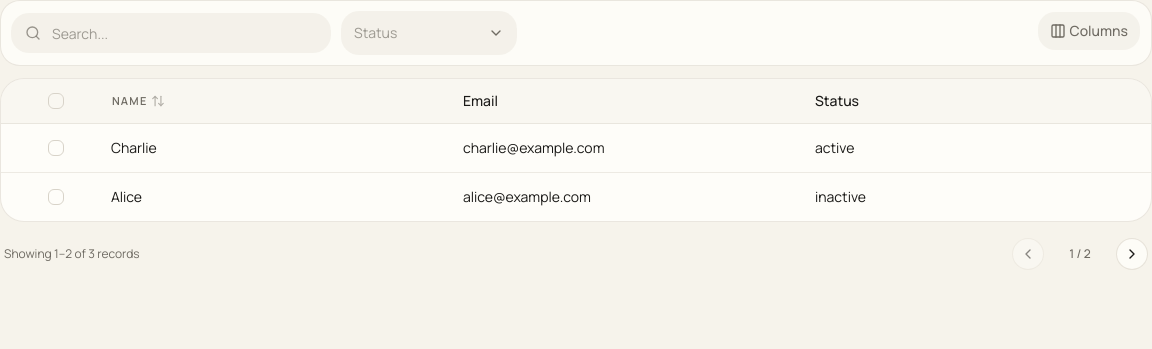
Test case: DataTable › selects rows across client-side pages
Click the checkbox named "Select row" in the row of "charlie@example.com" at (56, 148), box [48,140,64,156]
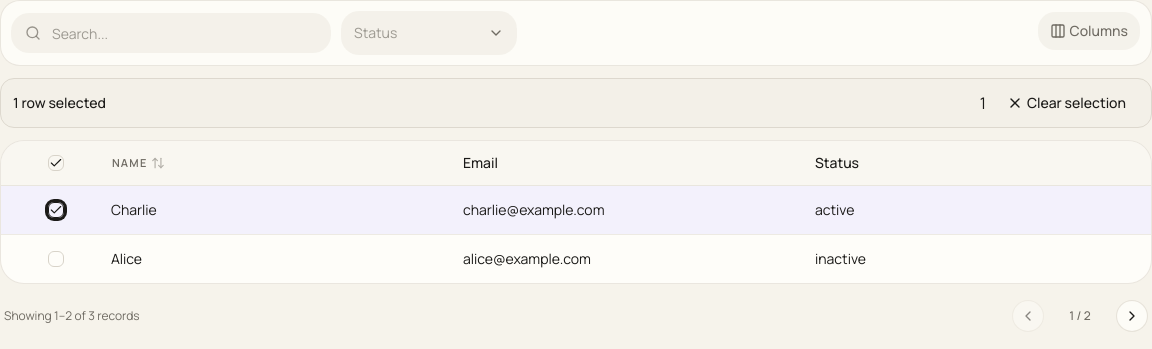
Click the button named "Next page" at (1132, 316), box [1116,300,1148,332]
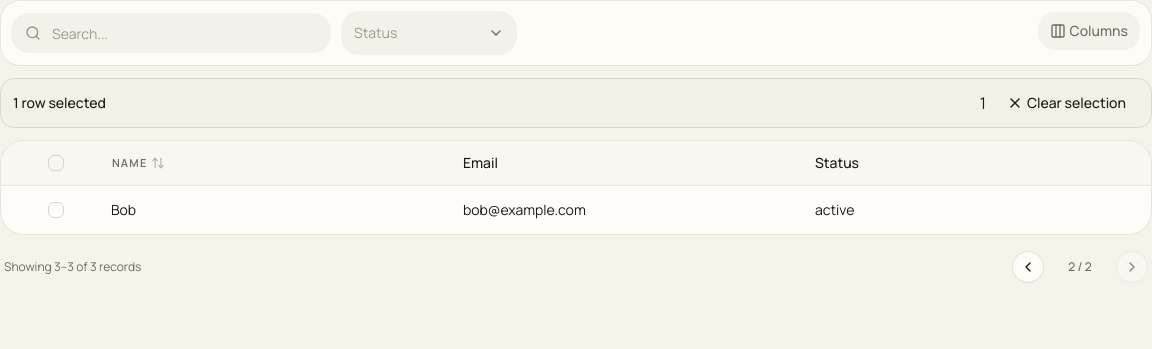
Click the checkbox named "Select row" at (56, 210), box [48,202,64,218]
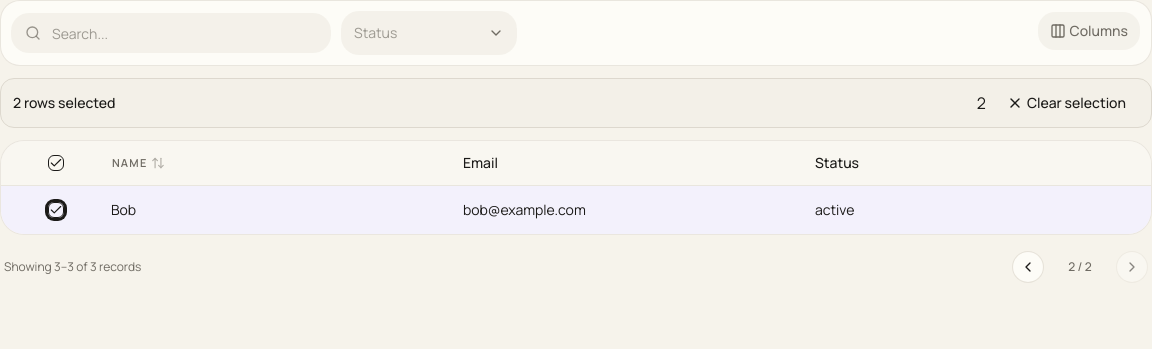
Check: the text with test id "bulk-count" reads "2", box [977,92,986,114]
